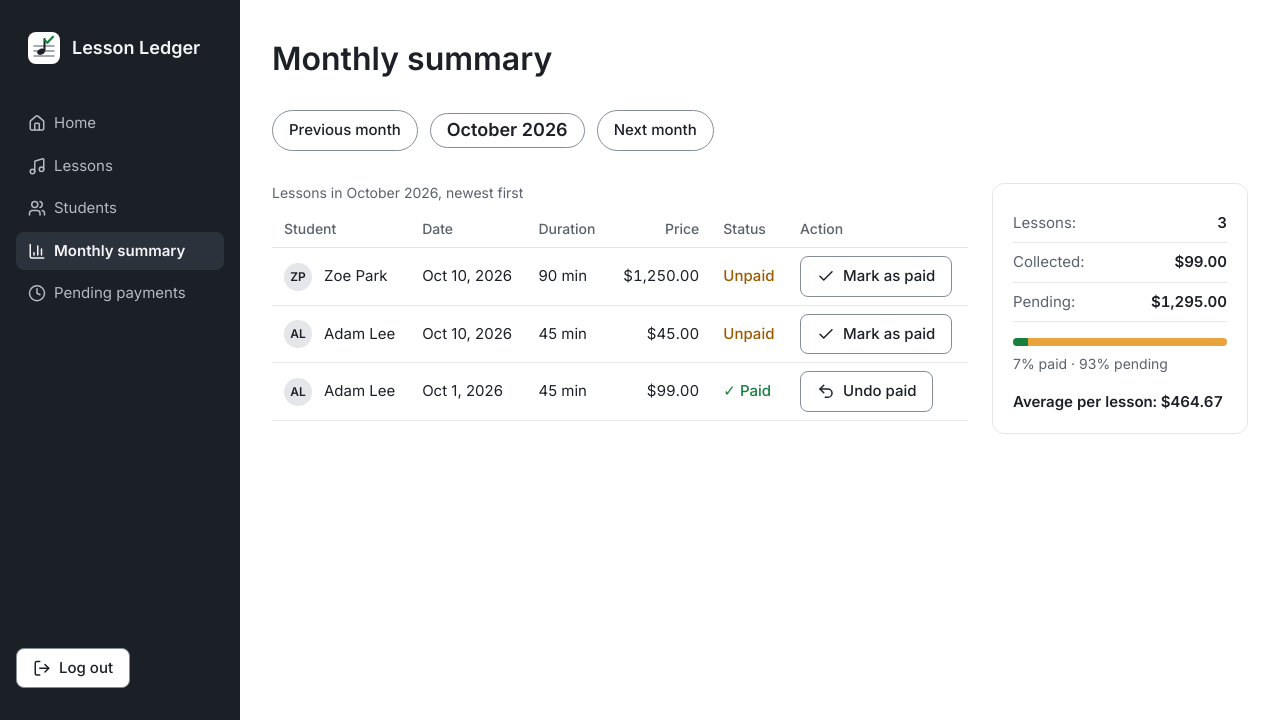
Test case: AC-3 mark as paid and undo on /summary › a message of one month is not shown on another month
Expected: the table is shown, [272,183,968,421]
Step 1. Click the button with aria-label "Mark as paid: Adam Lee, Oct 10, 2026" → (876, 334), box [800,314,952,354]
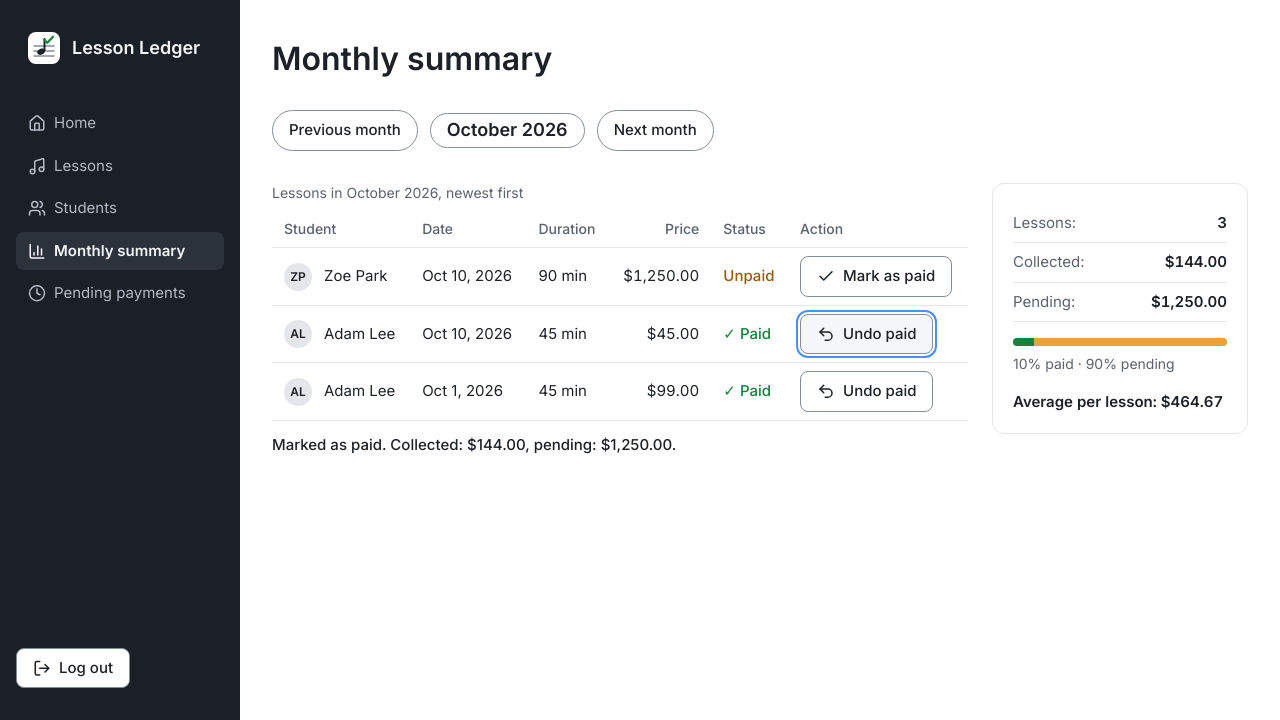
Expected: the message shows "Marked as paid.", [272,435,676,454]
Step 2. Click the button "Previous month" → (345, 131), box [272,110,418,151]
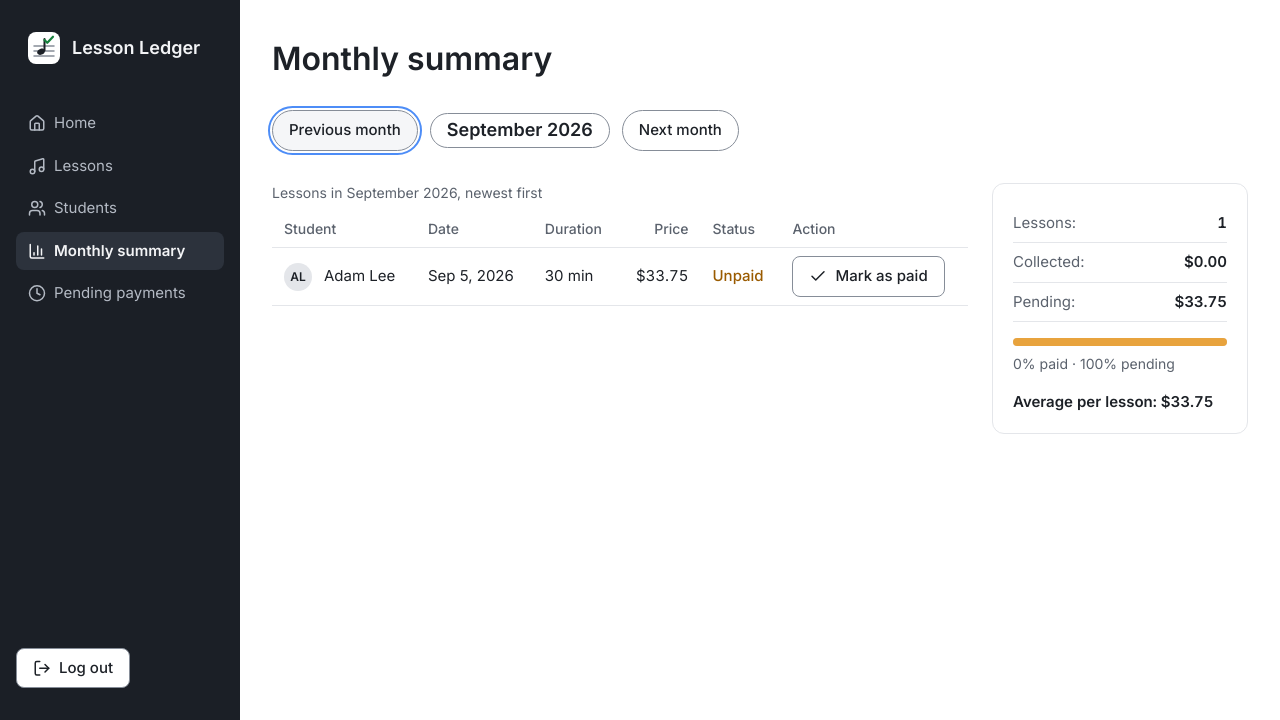
Expected: the table "Lessons in September 2026, newest first" is shown, [272,183,968,306]
Expected: the text "Marked as paid" is gone
